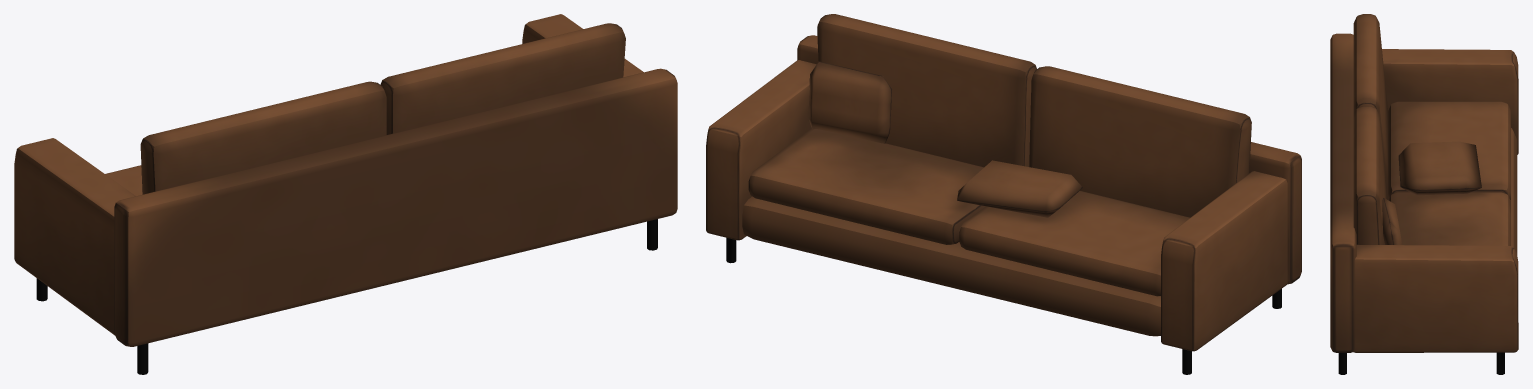
Rendered from sofa.fbx.
3 renders of one model, left to right at view 1: azimuth 30°, elevation 25°; view 2: azimuth 150°, elevation 25°; view 3: azimuth 270°, elevation 25°, orthographic. The views are drawn at different scales.
Parts seen in each view (by area): view 1: sofa; view 2: sofa; view 3: sofa.
Boxes of the visible parts, x1,y1,x2,y2 form: sofa: [14, 14, 677, 374]; sofa: [706, 14, 1301, 374]; sofa: [1330, 14, 1518, 374].
Size of the model in its own units: 511 by 517 by 1371.
